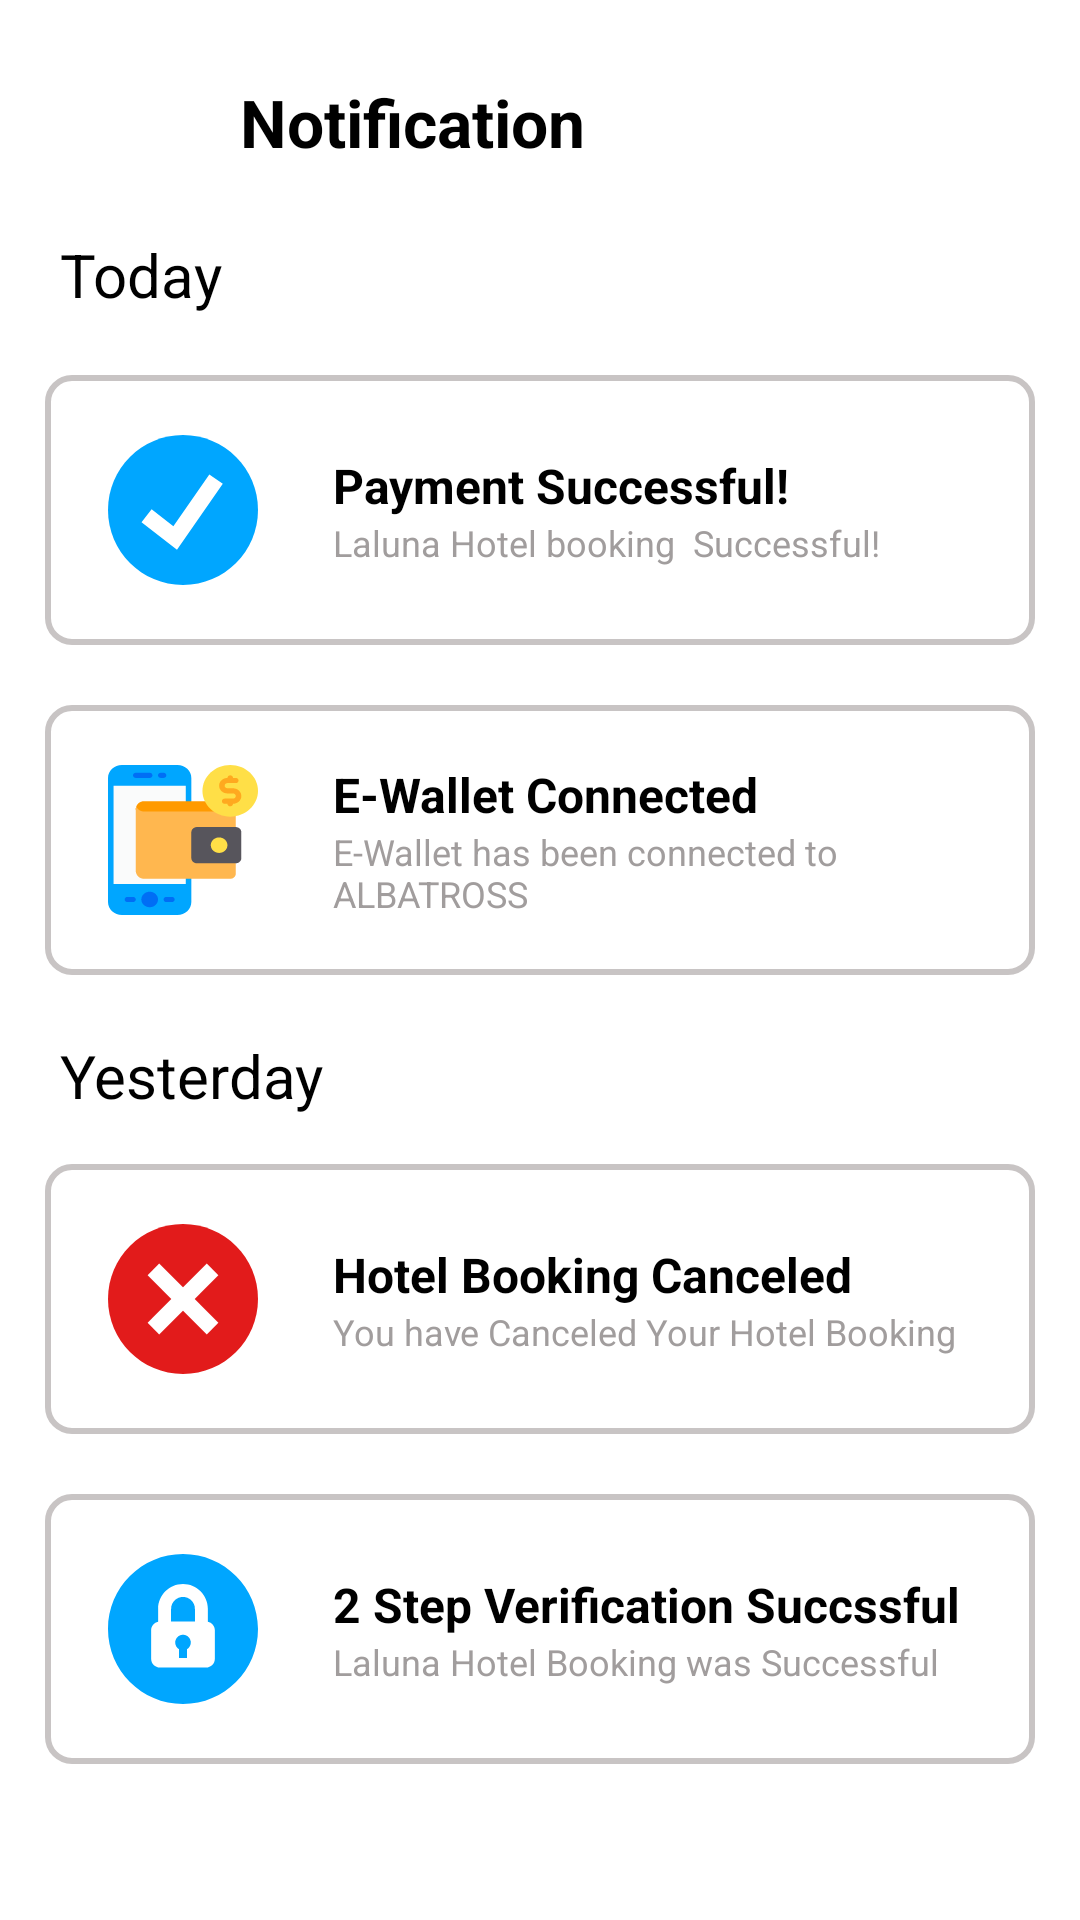

Named icons in this screenshot (1080 × 1920) and their bounding boxes, (x1, y1, x2, y2):
notification cancele: (108, 1224, 258, 1374)
notification right: (108, 435, 258, 585)
notification verification: (108, 1554, 258, 1704)
notification wallet: (108, 765, 258, 915)
